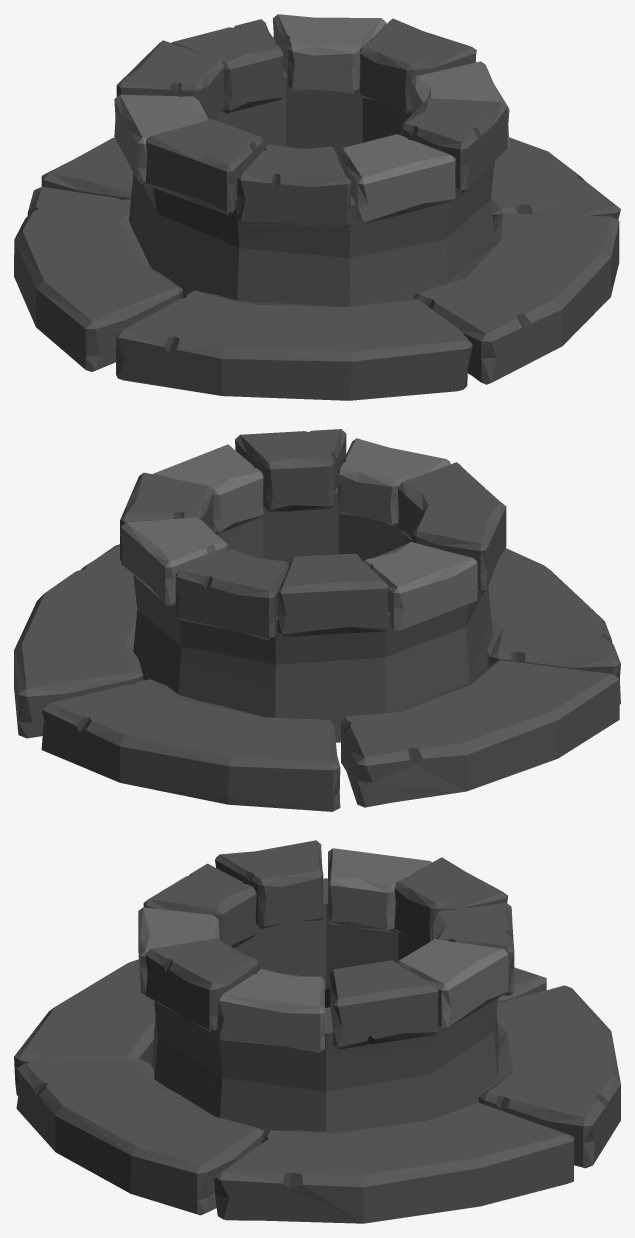
Rendered from SM_Bld_Village_Well_01.gltf.
3 views of the same model, one above another, from view 1: azimuth 30°, elevation 25°; view 2: azimuth 150°, elevation 25°; view 3: azimuth 270°, elevation 25° (orthographic).
Visible parts, largest first — view 1: SM_Bld_Village_Well_01; view 2: SM_Bld_Village_Well_01; view 3: SM_Bld_Village_Well_01.
Boxes of the visible parts, <box> form: SM_Bld_Village_Well_01: <box>14,14,620,400</box>; SM_Bld_Village_Well_01: <box>14,429,620,811</box>; SM_Bld_Village_Well_01: <box>14,840,620,1223</box>.
Bounding box in the file's own units: 3.06 × 1.02 × 3.08.
1 material, 1 textured.
